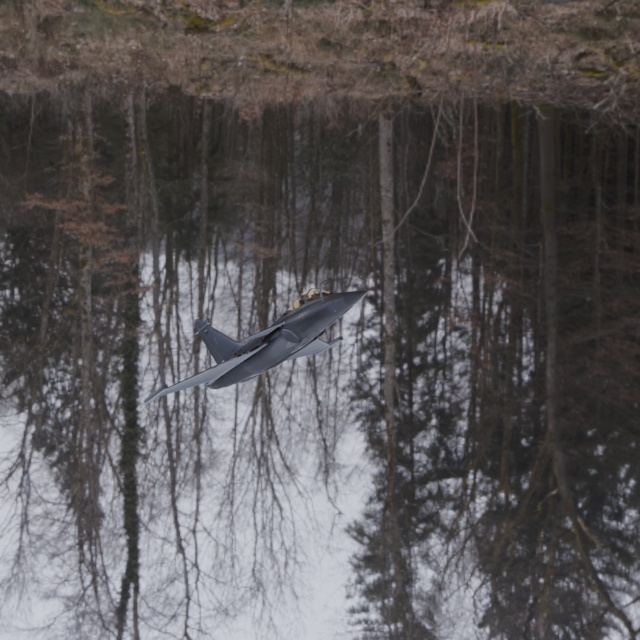dassault_rafale: (105, 191, 467, 425)
